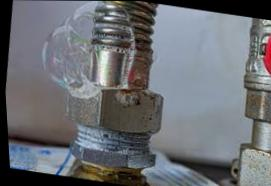leak: (41, 1, 129, 95)
